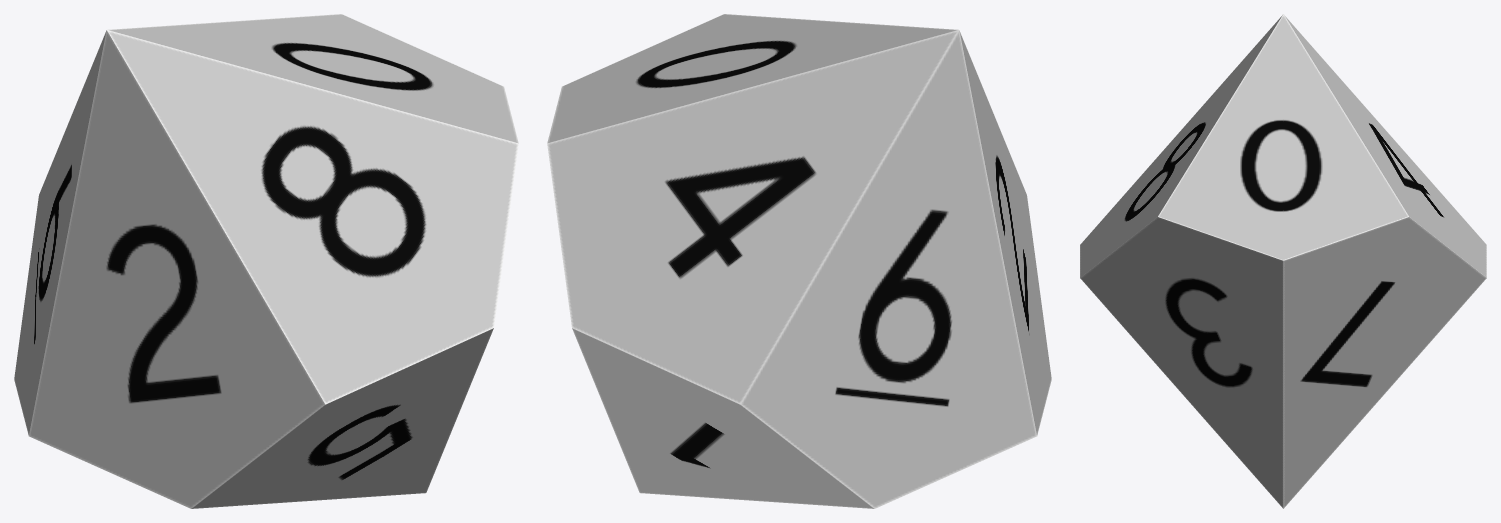
Rendered from d10_white.gltf.
3 views of the same model, side by side, from view 1: azimuth 30°, elevation 25°; view 2: azimuth 150°, elevation 25°; view 3: azimuth 270°, elevation 25° (orthographic). The views are drawn at different scales.
Visible parts, largest first — view 1: d10; view 2: d10; view 3: d10.
Part boxes in pixels (x1,y1,x2,y2): d10: (14, 14, 518, 508); d10: (547, 14, 1051, 508); d10: (1080, 14, 1486, 508).
Bounding box in the file's own units: 1.79 × 1.95 × 1.87.
Materials: 1 (1 with a texture image).
